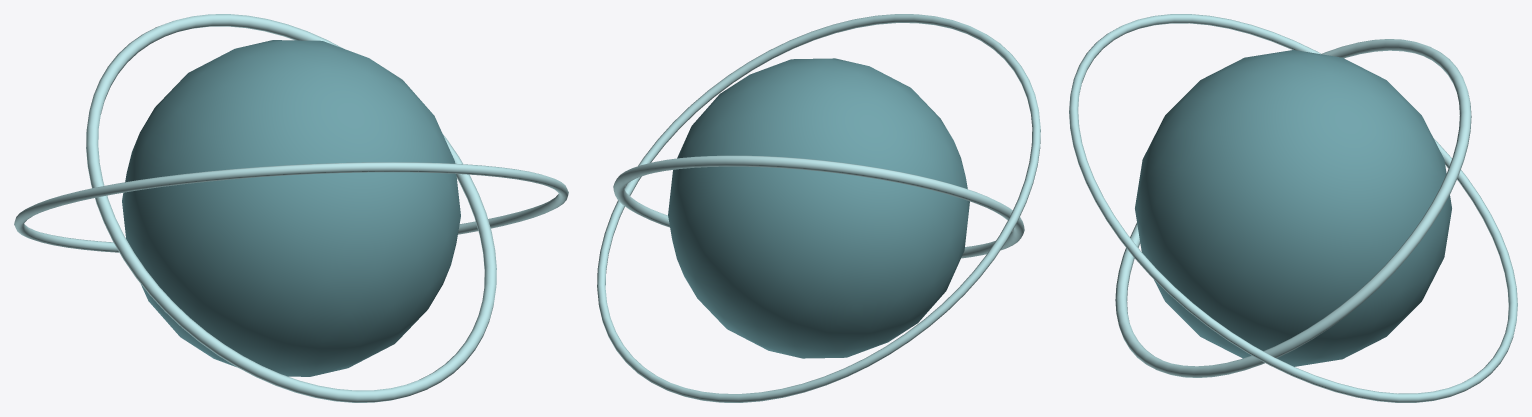
Rendered from core.glb.
3 views of the same model, side by side, from view 1: azimuth 30°, elevation 25°; view 2: azimuth 150°, elevation 25°; view 3: azimuth 270°, elevation 25° (orthographic). The views are drawn at different scales.
Visible parts, largest first — view 1: CoreMesh, ArcInner, ArcOuter; view 2: CoreMesh, ArcOuter, ArcInner; view 3: CoreMesh, ArcOuter, ArcInner.
Part boxes in pixels (x1,y1,x2,y2): CoreMesh: (122,40,460,376); ArcInner: (86,14,496,402); ArcOuter: (14,162,568,252); CoreMesh: (668,58,969,358); ArcOuter: (597,14,1040,402); ArcInner: (613,155,1024,258); CoreMesh: (1135,50,1451,366); ArcOuter: (1069,14,1517,402); ArcInner: (1115,39,1471,377).
Size of the model in its own units: 1.27 by 0.8 by 1.13.
